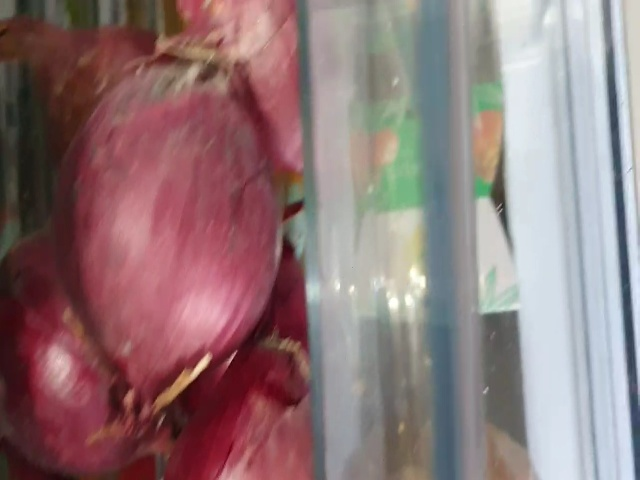red_onion: (64, 37, 282, 437)
